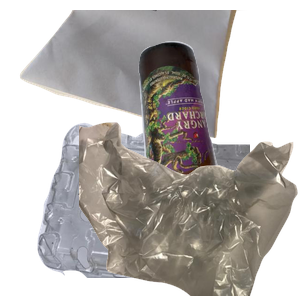glass: (136, 39, 300, 219)
paper: (17, 10, 254, 141)
plastic: (35, 120, 275, 300)
trash: (79, 120, 300, 300)
